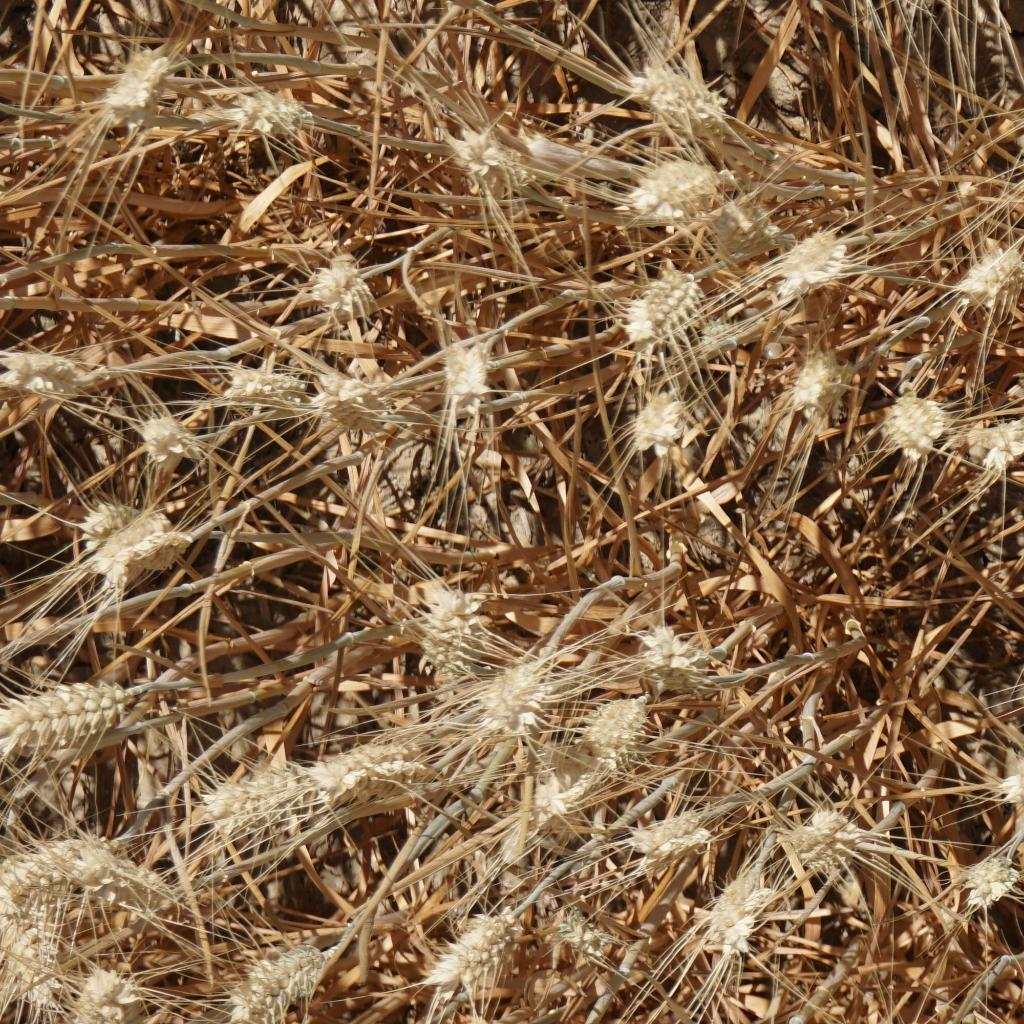0-0: (279, 714, 431, 803), (0, 812, 137, 902), (417, 903, 533, 1004), (0, 687, 135, 770), (530, 743, 622, 858), (417, 600, 505, 710), (310, 352, 406, 446), (628, 797, 734, 880), (216, 344, 314, 431), (216, 927, 318, 1010), (624, 45, 724, 128), (442, 116, 539, 197), (622, 141, 716, 224), (476, 671, 565, 754), (84, 490, 177, 569), (228, 84, 334, 153), (614, 376, 698, 456), (765, 236, 856, 309), (697, 874, 779, 954), (86, 41, 179, 110), (186, 758, 263, 835), (616, 260, 698, 332), (4, 334, 94, 399), (2, 919, 60, 1016), (951, 240, 1024, 314), (644, 624, 726, 689), (535, 889, 626, 947), (795, 807, 876, 872), (435, 338, 509, 409), (309, 260, 390, 323), (874, 391, 945, 462), (67, 961, 139, 1024), (707, 188, 772, 256), (581, 693, 653, 754), (963, 405, 1024, 476), (774, 344, 835, 413), (143, 409, 212, 468), (963, 852, 1024, 913), (701, 309, 751, 367), (998, 742, 1024, 811)
